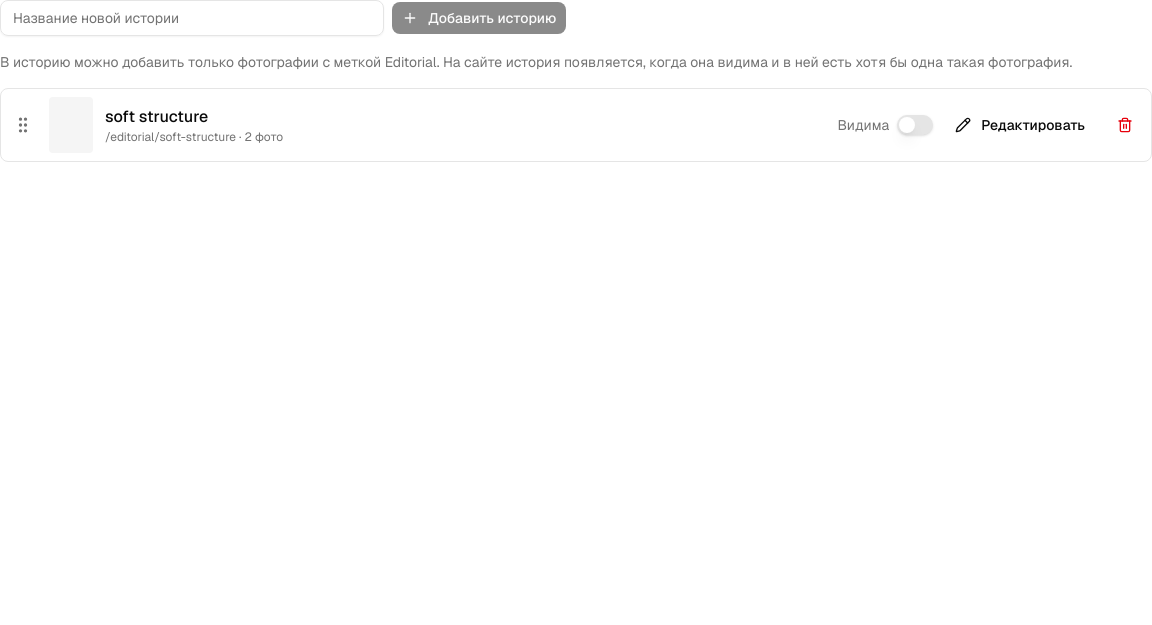
Test case: story editor › shows the validation message returned by the action
Click the button "Редактировать" at (1020, 125), box [945,109,1095,141]
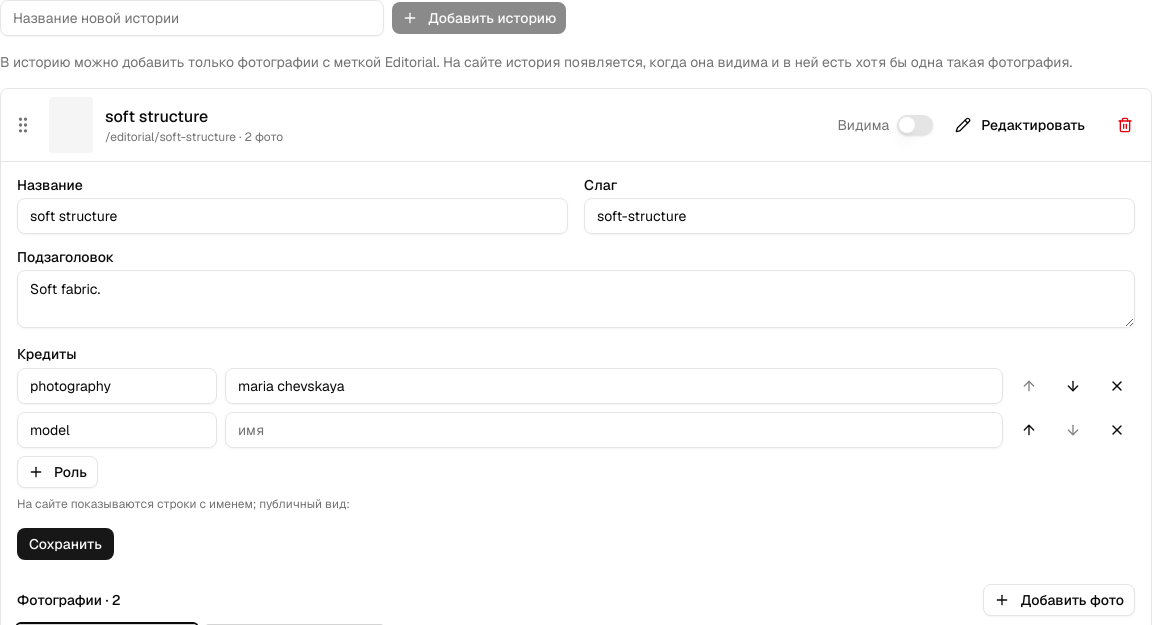
Click the button "Сохранить" at (65, 544), box [17,528,114,560]
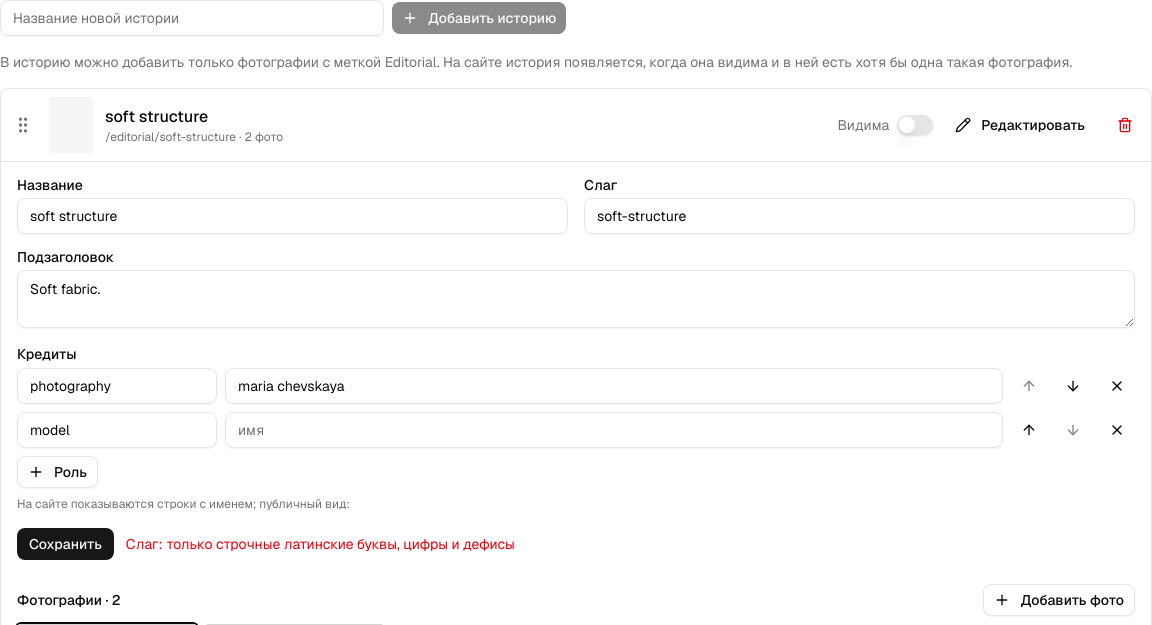
Expected: the message reads "Слаг: только строчные латинские буквы, цифры и дефисы", [126,535,515,553]
